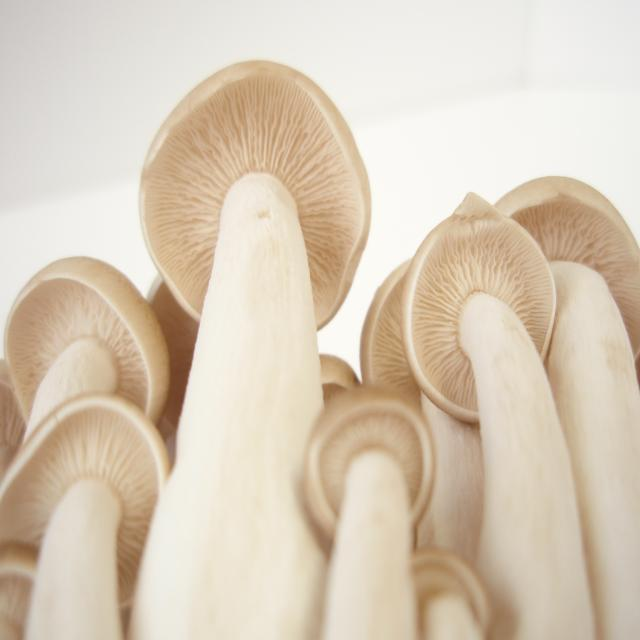Hypsizygus marmoreus: (142, 58, 370, 635), (406, 215, 598, 640), (489, 176, 640, 640), (4, 257, 172, 640), (314, 386, 430, 640)
